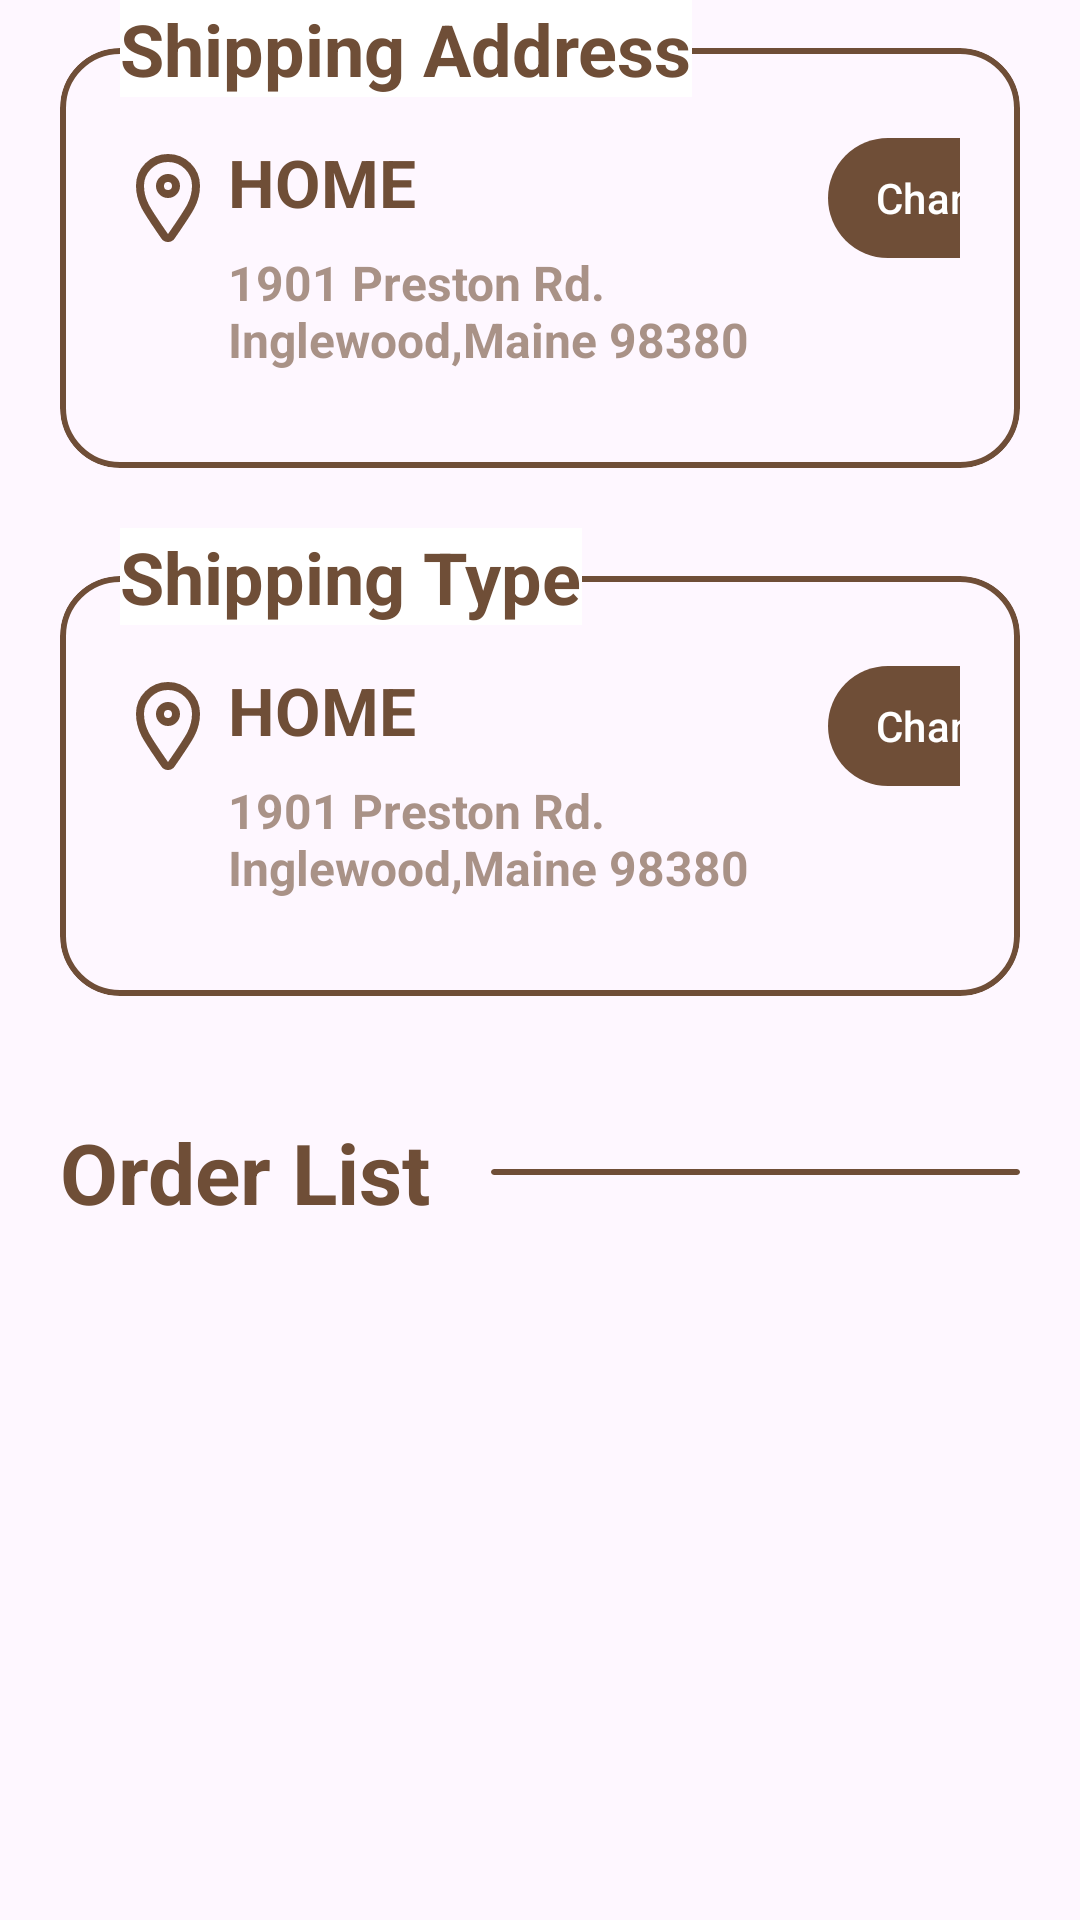

Screen size 1080px x 1920px. Icon name, then its box in pixels as (left=x1, top=y1, right=x2, bottom=y2):
location: (left=136, top=154, right=200, bottom=242), (left=136, top=682, right=200, bottom=770)
